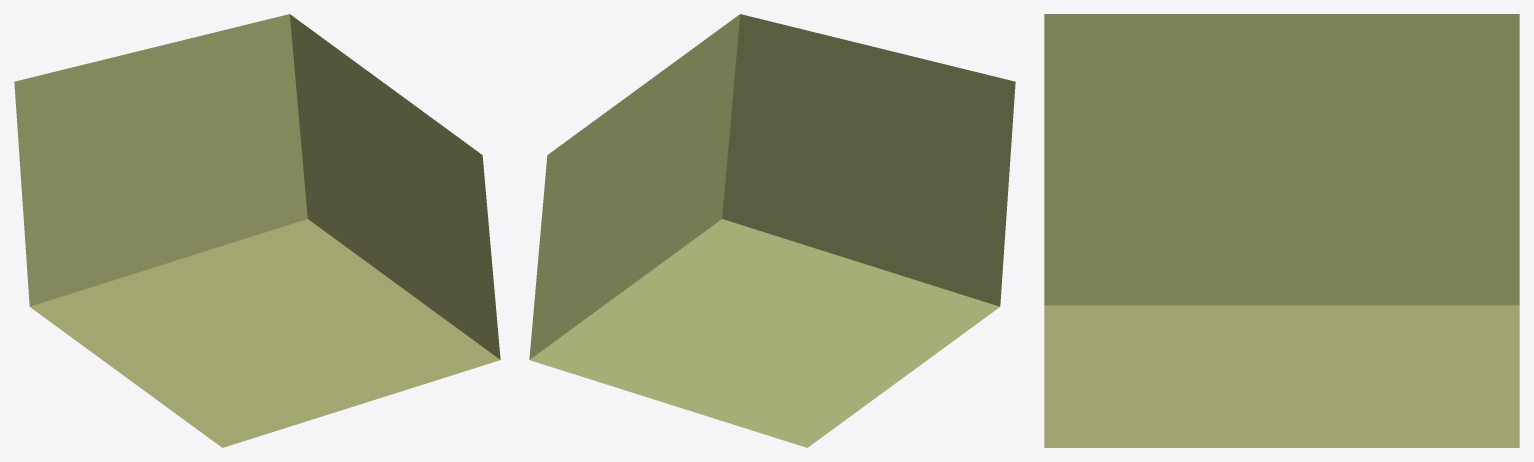
3 renders of one model, left to right at view 1: azimuth 30°, elevation 25°; view 2: azimuth 150°, elevation 25°; view 3: azimuth 270°, elevation 25°, orthographic. The views are drawn at different scales.
Parts seen in each view (by area): view 1: 0_2_1_3_0_3_0_1_3_1_1; view 2: 0_2_1_3_0_3_0_1_3_1_1; view 3: 0_2_1_3_0_3_0_1_3_1_1.
Boxes of the visible parts, x1,y1,x2,y2 form: 0_2_1_3_0_3_0_1_3_1_1: (14, 14, 500, 447); 0_2_1_3_0_3_0_1_3_1_1: (529, 14, 1015, 447); 0_2_1_3_0_3_0_1_3_1_1: (1044, 14, 1519, 447).
Bounding box in the file's own units: 7.91 × 5.91 × 9.
